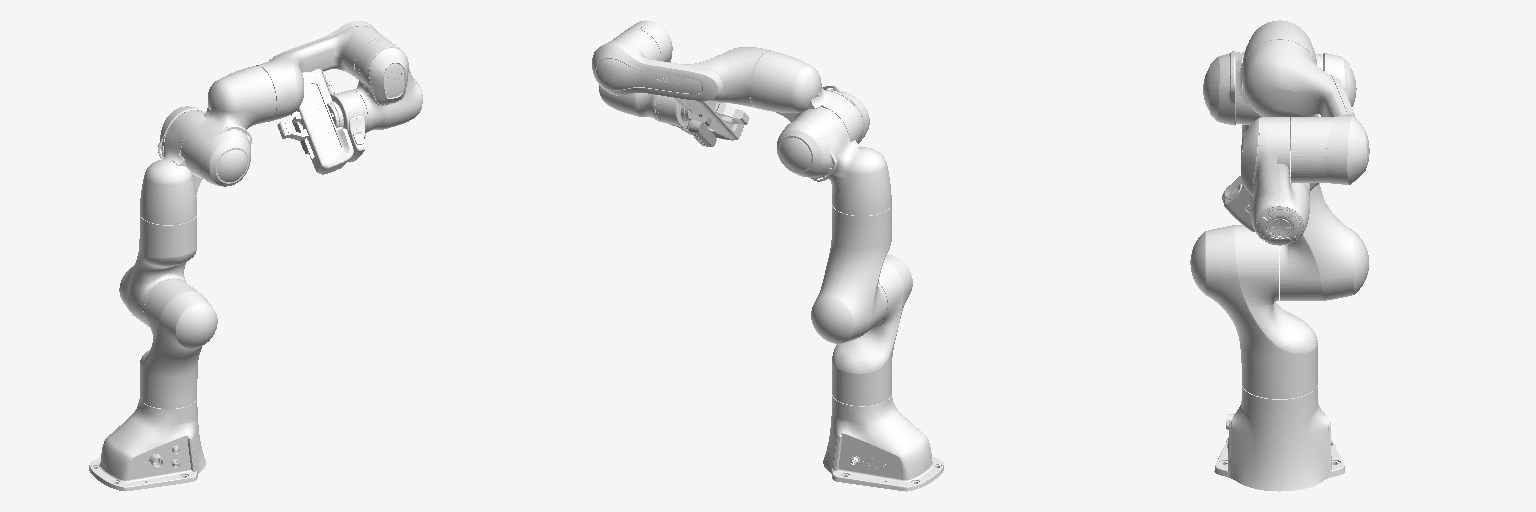
robot.urdf — panda:
<?xml version="1.0" ?>

<robot name="panda" xmlns:xacro="http://www.ros.org/wiki/xacro">
  
  <link name="panda_link0">
    <visual>
      <geometry>
        <mesh filename="meshes/visual/link0.obj"/>
      </geometry>
      <material name="panda_white">
        <color rgba="1. 1. 1. 1."/>
      </material>
    </visual>
    <collision>
      <geometry>
        <mesh filename="meshes/collision/link0.stl"/>
      </geometry>
      <material name="panda_white"/>
    </collision>
    <inertial>
      <origin xyz="0 0 0" rpy="0 0 0"/>
      <mass value="3.06"/>
      <inertia ixx="0.3" ixy="0.0" ixz="0.0" iyy="0.3" iyz="0.0" izz="0.3"/>
    </inertial>
  </link>
  
  <link name="panda_link1">
    <visual>
      <geometry>
        <mesh filename="meshes/visual/link1.obj"/>
      </geometry>
      <material name="panda_white"/>
    </visual>
    <collision>
      <geometry>
        <mesh filename="meshes/collision/link1.stl"/>
      </geometry>
      <material name="panda_white"/>
    </collision>
    <inertial>
      <origin xyz="0 0 0" rpy="0 0 0"/>
      <mass value="2.34"/>
      <inertia ixx="0.3" ixy="0.0" ixz="0.0" iyy="0.3" iyz="0.0" izz="0.3"/>
    </inertial>
  </link>
  
  <joint name="panda_joint1" type="revolute">
    <safety_controller k_position="100.0" k_velocity="40.0" soft_lower_limit="-2.8973" soft_upper_limit="2.8973"/>
    <origin rpy="0 0 0" xyz="0 0 0.333"/>
    <parent link="panda_link0"/>
    <child link="panda_link1"/>
    <axis xyz="0 0 1"/>
    <limit effort="87" lower="-2.8973" upper="2.8973" velocity="2.1750"/>
    <dynamics damping="0.5"/>
  </joint>
  
  <link name="panda_link2">
    <visual>
      <geometry>
        <mesh filename="meshes/visual/link2.obj"/>
      </geometry>
      <material name="panda_white"/>
    </visual>
    <collision>
      <geometry>
        <mesh filename="meshes/collision/link2.stl"/>
      </geometry>
      <material name="panda_white"/>
    </collision>
    <inertial>
      <origin xyz="0 0 0" rpy="0 0 0"/>
      <mass value="2.36"/>
      <inertia ixx="0.3" ixy="0.0" ixz="0.0" iyy="0.3" iyz="0.0" izz="0.3"/>
    </inertial>
  </link>
  
  <joint name="panda_joint2" type="revolute">
    <safety_controller k_position="100.0" k_velocity="40.0" soft_lower_limit="-1.7628" soft_upper_limit="1.7628"/>
    <origin rpy="-1.57079632679 0 0" xyz="0 0 0"/>
    <parent link="panda_link1"/>
    <child link="panda_link2"/>
    <axis xyz="0 0 1"/>
    <limit effort="87" lower="-1.7628" upper="1.7628" velocity="2.1750"/>
    <dynamics damping="0.5"/>
  </joint>
  
  <link name="panda_link3">
    <visual>
      <geometry>
        <mesh filename="meshes/visual/link3.obj"/>
      </geometry>
      <material name="panda_red">
        <color rgba="1. 1. 1. 1."/>
      </material>
    </visual>
    <collision>
      <geometry>
        <mesh filename="meshes/collision/link3.stl"/>
      </geometry>
    </collision>
    <inertial>
      <origin xyz="0 0 0" rpy="0 0 0"/>
      <mass value="2.38"/>
      <inertia ixx="0.3" ixy="0.0" ixz="0.0" iyy="0.3" iyz="0.0" izz="0.3"/>
    </inertial>
  </link>
  
  <joint name="panda_joint3" type="revolute">
    <safety_controller k_position="100.0" k_velocity="40.0" soft_lower_limit="-2.8973" soft_upper_limit="2.8973"/>
    <origin rpy="1.57079632679 0 0" xyz="0 -0.316 0"/>
    <parent link="panda_link2"/>
    <child link="panda_link3"/>
    <axis xyz="0 0 1"/>
    <limit effort="87" lower="-2.8973" upper="2.8973" velocity="2.1750"/>
    <dynamics damping="0.5"/>
  </joint>
  
  <link name="panda_link4">
    <visual>
      <geometry>
        <mesh filename="meshes/visual/link4.obj"/>
      </geometry>
      <material name="panda_white"/>
    </visual>
    <collision>
      <geometry>
        <mesh filename="meshes/collision/link4.stl"/>
      </geometry>
      <material name="panda_white"/>
    </collision>
    <inertial>
      <origin xyz="0 0 0" rpy="0 0 0"/>
      <mass value="2.43"/>
      <inertia ixx="0.3" ixy="0.0" ixz="0.0" iyy="0.3" iyz="0.0" izz="0.3"/>
    </inertial>
  </link>
  
  <joint name="panda_joint4" type="revolute">
    <safety_controller k_position="100.0" k_velocity="40.0" soft_lower_limit="-3.0718" soft_upper_limit="-0.0698"/>
    <origin rpy="1.57079632679 0 0" xyz="0.0825 0 0"/>
    <parent link="panda_link3"/>
    <child link="panda_link4"/>
    <axis xyz="0 0 1"/>
    <limit effort="87" lower="-3.0718" upper="-0.0698" velocity="2.1750"/>
    <dynamics damping="0.5"/>
  </joint>
  
  <link name="panda_link5">
    <visual>
      <geometry>
        <mesh filename="meshes/visual/link5.obj"/>
      </geometry>
      <material name="panda_white"/>
    </visual>
    <collision>
      <geometry>
        <mesh filename="meshes/collision/link5.stl"/>
      </geometry>
      <material name="panda_white"/>
    </collision>
    <inertial>
      <origin xyz="0 0 0" rpy="0 0 0"/>
      <mass value="3.5"/>
      <inertia ixx="0.3" ixy="0.0" ixz="0.0" iyy="0.3" iyz="0.0" izz="0.3"/>
    </inertial>
  </link>
  
  <joint name="panda_joint5" type="revolute">
    <safety_controller k_position="100.0" k_velocity="40.0" soft_lower_limit="-2.8973" soft_upper_limit="2.8973"/>
    <origin rpy="-1.57079632679 0 0" xyz="-0.0825 0.384 0"/>
    <parent link="panda_link4"/>
    <child link="panda_link5"/>
    <axis xyz="0 0 1"/>
    <limit effort="12" lower="-2.8973" upper="2.8973" velocity="2.6100"/>
    <dynamics damping="0.5"/>
  </joint>
  
  <link name="panda_link6">
    <visual>
      <geometry>
        <mesh filename="meshes/visual/link6.obj"/>
      </geometry>
      <material name="panda_white"/>
    </visual>
    <collision>
      <geometry>
        <mesh filename="meshes/collision/link6.stl"/>
      </geometry>
      <material name="panda_white"/>
    </collision>
    <inertial>
      <origin xyz="0 0 0" rpy="0 0 0"/>
      <mass value="1.47"/>
      <inertia ixx="0.3" ixy="0.0" ixz="0.0" iyy="0.3" iyz="0.0" izz="0.3"/>
    </inertial>
  </link>
  
  <joint name="panda_joint6" type="revolute">
    <safety_controller k_position="100.0" k_velocity="40.0" soft_lower_limit="-0.0175" soft_upper_limit="3.7525"/>
    <origin rpy="1.57079632679 0 0" xyz="0 0 0"/>
    <parent link="panda_link5"/>
    <child link="panda_link6"/>
    <axis xyz="0 0 1"/>
    <limit effort="12" lower="-0.0175" upper="3.752" velocity="2.6100"/>
    <dynamics damping="0.5"/>
  </joint>
  
  <link name="panda_link7">
    <visual>
      <geometry>
        <mesh filename="meshes/visual/link7.obj"/>
      </geometry>
      <material name="panda_white"/>
    </visual>
    <collision>
      <geometry>
        <mesh filename="meshes/collision/link7.stl"/>
      </geometry>
      <material name="panda_white"/>
    </collision>
    <inertial>
      <origin xyz="0 0 0" rpy="0 0 0"/>
      <mass value="0.45"/>
      <inertia ixx="0.3" ixy="0.0" ixz="0.0" iyy="0.3" iyz="0.0" izz="0.3"/>
    </inertial>
  </link>
  
  <joint name="panda_joint7" type="revolute">
    <safety_controller k_position="100.0" k_velocity="40.0" soft_lower_limit="-2.8973" soft_upper_limit="2.8973"/>
    <origin rpy="1.57079632679 0 0" xyz="0.088 0 0"/>
    <parent link="panda_link6"/>
    <child link="panda_link7"/>
    <axis xyz="0 0 1"/>
    <limit effort="12" lower="-2.8973" upper="2.8973" velocity="2.6100"/>
    <dynamics damping="0.5"/>
  </joint>
  
  <joint name="panda_hand_joint" type="fixed">
    <parent link="panda_link7"/>
    <child link="panda_hand"/>
    <origin rpy="0 0 -0.785398163397" xyz="0 0 0.107"/>
  </joint>
  
  <link name="panda_hand">
    <visual>
      <geometry>
        <mesh filename="meshes/visual/hand.obj"/>
      </geometry>
      <material name="panda_white"/>
    </visual>
    <collision>
      <geometry>
        <mesh filename="meshes/collision/hand.stl"/>
      </geometry>
      <material name="panda_white"/>
    </collision>
    <inertial>
      <origin xyz="0 0 0" rpy="0 0 0"/>
      <mass value="0.68"/>
      <inertia ixx="0.1" ixy="0.0" ixz="0.0" iyy="0.1" iyz="0.0" izz="0.1"/>
    </inertial>
  </link>
  
  <link name="panda_leftfinger">
       <contact>
      <friction_anchor/>
      <stiffness value="30000.0"/>
      <damping value="1000.0"/>
      <spinning_friction value="0.1"/>
      <lateral_friction value="5.0"/>
    </contact>
    <visual>
      <geometry>
        <mesh filename="meshes/visual/finger.obj"/>
      </geometry>
      <material name="panda_white"/>
    </visual>
    <collision>
      <geometry>
        <mesh filename="meshes/collision/finger.stl"/>
      </geometry>
      <material name="panda_white"/>
    </collision>
    <inertial>
      <origin xyz="0 0 0" rpy="0 0 0"/>
      <mass value="0.01"/>
      <inertia ixx="0.1" ixy="0.0" ixz="0.0" iyy="0.1" iyz="0.0" izz="0.1"/>
    </inertial>
  </link>
  
  <link name="panda_rightfinger">
       <contact>
      <friction_anchor/>
      <stiffness value="30000.0"/>
      <damping value="1000.0"/>
      <spinning_friction value="0.1"/>
      <lateral_friction value="5.0"/>
    </contact>
    <visual>
      <origin rpy="0 0 3.14159265359" xyz="0 0 0"/>
      <geometry>
        <mesh filename="meshes/visual/finger.obj"/>
      </geometry>
      <material name="panda_white"/>
    </visual>
    <collision>
      <origin rpy="0 0 3.14159265359" xyz="0 0 0"/>
      <geometry>
        <mesh filename="meshes/collision/finger.stl"/>
      </geometry>
      <material name="panda_white"/>
    </collision>
    <inertial>
      <origin xyz="0 0 0" rpy="0 0 0"/>
      <mass value="0.01"/>
      <inertia ixx="0.1" ixy="0.0" ixz="0.0" iyy="0.1" iyz="0.0" izz="0.1"/>
    </inertial>
  </link>
  <link name="panda_hand_camera">
    <visual>
      <geometry>
        <mesh filename="meshes/visual/camera.obj"/>
      </geometry>
      <material name="panda_gray"/>
    </visual>
    <collision>
      <geometry>
        <mesh filename="meshes/collision/camera.stl"/>
      </geometry>
      <material name="panda_gray"/>
    </collision>
    <inertial>
      <origin xyz="0 0 0" rpy="0 0 0"/>
      <mass value="0.01"/>
      <inertia ixx="0.1" ixy="0.0" ixz="0.0" iyy="0.1" iyz="0.0" izz="0.1"/>
    </inertial>
  </link>  
  <joint name="panda_finger_joint1" type="prismatic">
    <parent link="panda_hand"/>
    <child link="panda_leftfinger"/>
    <origin rpy="0 0 0" xyz="0 0 0.0584"/>
    <axis xyz="0 1 0"/>
    <limit effort="20" lower="0.0" upper="0.04" velocity="0.2"/>
  </joint>
  
  <joint name="panda_finger_joint2" type="prismatic">
    <parent link="panda_hand"/>
    <child link="panda_rightfinger"/>
    <origin rpy="0 0 0" xyz="0 0 0.0584"/>
    <axis xyz="0 -1 0"/>
    <limit effort="20" lower="0.0" upper="0.04" velocity="0.2"/>
    <mimic joint="panda_finger_joint1"/>
  </joint>
  <joint name="panda_hand_camera_joint" type="fixed">
    <parent link="panda_hand"/>
    <child link="panda_hand_camera"/>
    <origin rpy="-1.57079632679 0 -1.57079632679" xyz="0.036 0 0.036"/>
  </joint>  
  
  <material name="panda_white">
    <color rgba="1. 1. 1. 1."/>
  </material>
  <material name="panda_gray">
    <color rgba=".8 .8 .8 1."/>
  </material>
</robot>

--- Facts derived from the render (not from the file) ---
Views: 3 orthographic renders of the robot side by side, from view 1: azimuth 30°, elevation 25°; view 2: azimuth 150°, elevation 25°; view 3: azimuth 270°, elevation 25°.
Model panda with 12 links and 11 joints (7 revolute, 2 prismatic, 2 fixed), rooted at panda_link0, posed joints at zero except 1 at the middle of their limits (panda_joint4 = -1.57).
Visible links, largest first — view 1: panda_link0, panda_link1, panda_link4, panda_link3, panda_link5, panda_link6, panda_link2, panda_hand, panda_link7; view 2: panda_link0, panda_link5, panda_link2, panda_link3, panda_link1, panda_link4, panda_link6, panda_hand, panda_link7, panda_hand_camera; view 3: panda_link1, panda_link5, panda_link0, panda_link2, panda_link6, panda_link4, panda_link3, panda_link7.
Boxes of the visible links, bbox=[...] form: panda_link0: bbox=[89, 399, 205, 491]; panda_link1: bbox=[140, 279, 217, 408]; panda_link4: bbox=[181, 66, 276, 186]; panda_link3: bbox=[140, 106, 206, 224]; panda_link5: bbox=[256, 20, 387, 121]; panda_link6: bbox=[353, 39, 422, 133]; panda_link2: bbox=[119, 216, 196, 326]; panda_hand: bbox=[294, 69, 353, 174]; panda_link7: bbox=[330, 90, 367, 162]; panda_link0: bbox=[823, 395, 943, 491]; panda_link5: bbox=[592, 29, 770, 107]; panda_link2: bbox=[811, 205, 891, 343]; panda_link3: bbox=[777, 107, 891, 215]; panda_link1: bbox=[832, 255, 912, 405]; panda_link4: bbox=[750, 51, 869, 143]; panda_link6: bbox=[599, 20, 672, 121]; panda_hand: bbox=[673, 97, 743, 140]; panda_link7: bbox=[655, 95, 691, 134]; panda_hand_camera: bbox=[687, 112, 716, 146]; panda_link1: bbox=[1190, 225, 1317, 398]; panda_link5: bbox=[1242, 40, 1369, 184]; panda_link0: bbox=[1214, 385, 1344, 491]; panda_link2: bbox=[1280, 183, 1368, 300]; panda_link6: bbox=[1241, 117, 1309, 245]; panda_link4: bbox=[1203, 20, 1316, 125]; panda_link3: bbox=[1242, 53, 1356, 137]; panda_link7: bbox=[1224, 151, 1309, 231].
Bounding box of the posed robot: 0.7022 × 0.2593 × 0.7865 m (x, y, z).
Meshes: 11 distinct files referenced, 12 mesh visuals loaded (11 OBJ).